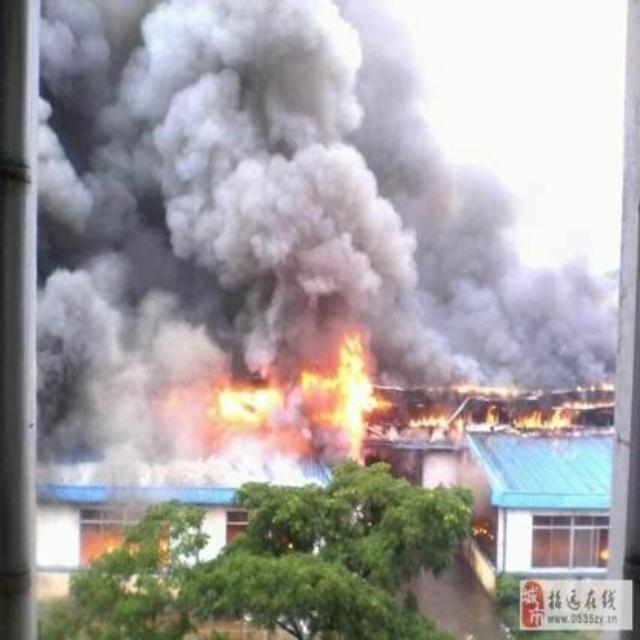Fire: (216, 339, 380, 477), (384, 380, 618, 442), (84, 529, 184, 599), (482, 516, 498, 544), (595, 540, 609, 564)
Smoke: (44, 1, 624, 370), (47, 382, 219, 474)
